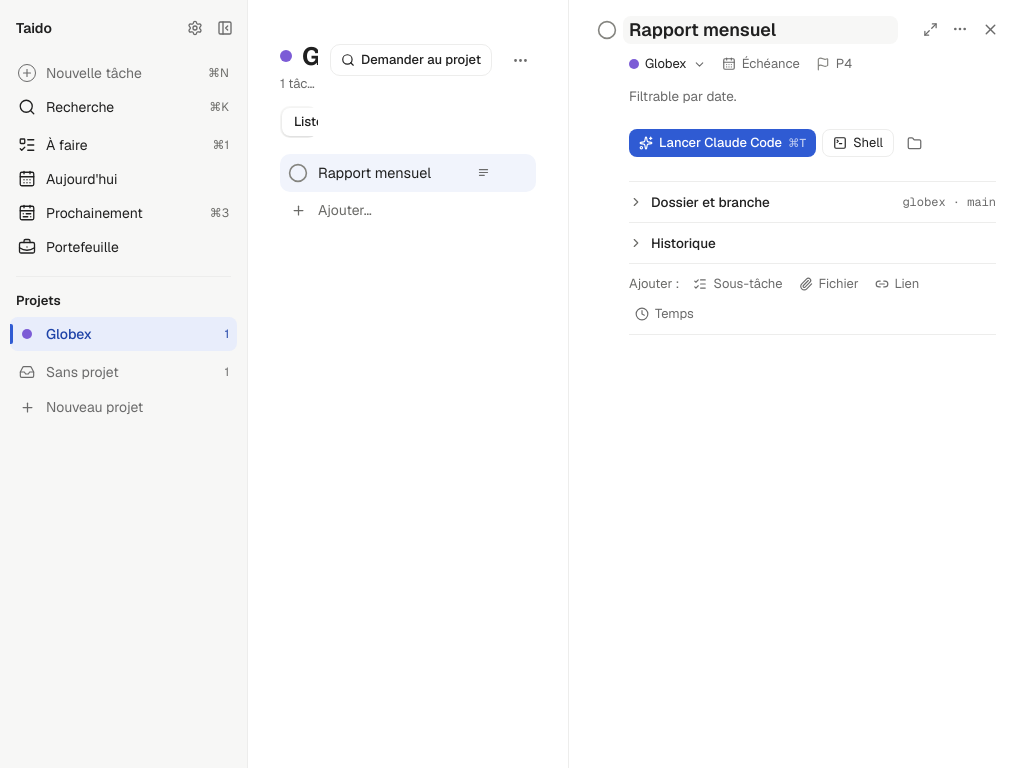
Test: attachments and relations › finds a subtask by its name and shows it under its task
Click the button "Lien" at x=897, y=284, box [869,270,925,298]
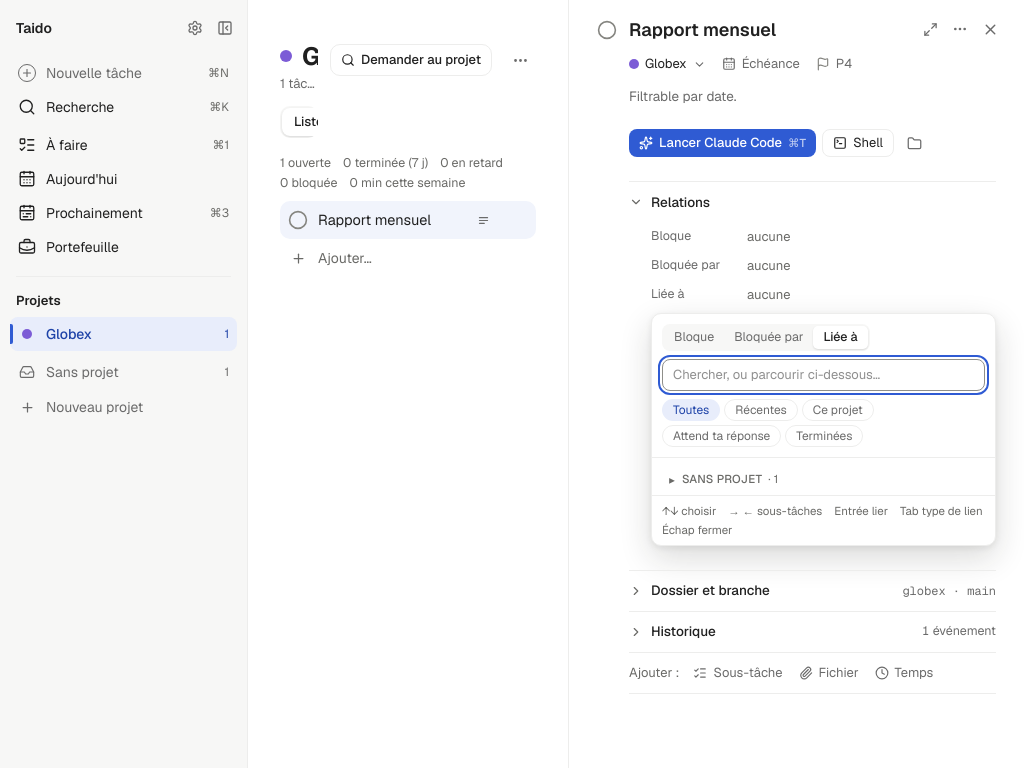
Type "script" into the dropdown at x=824, y=375, box [662,359,985,391]
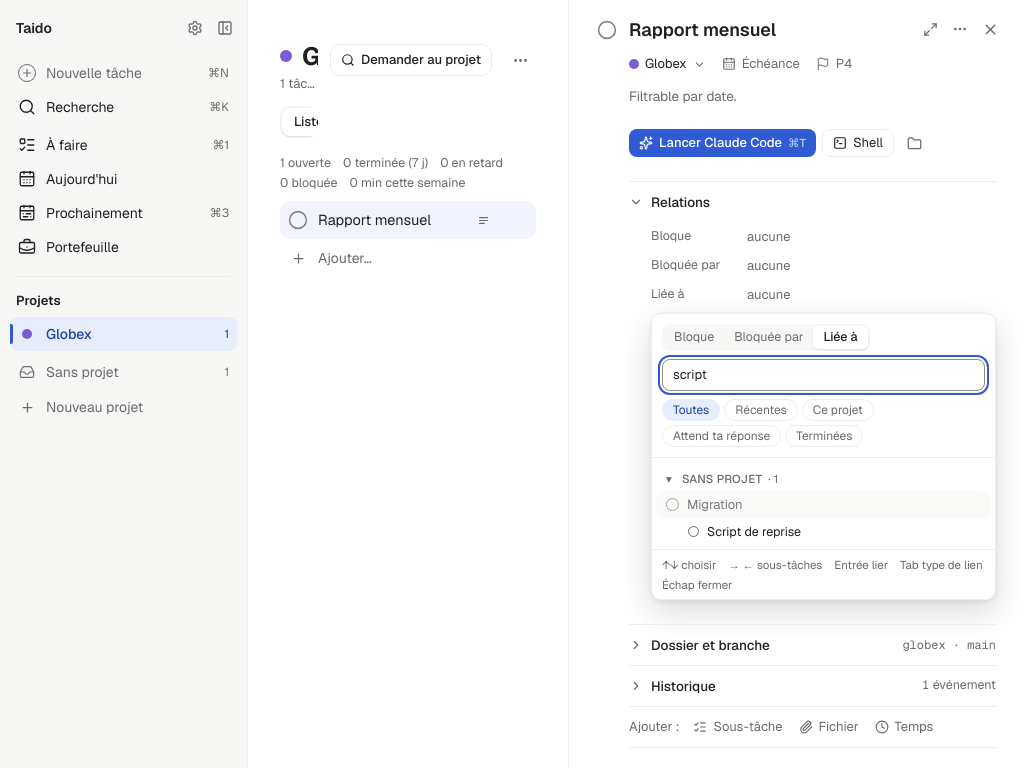
Result: the options read "Migration", "Script de reprise", in this order at [656,491,991,518]; [688,522,801,540]
Press Escape
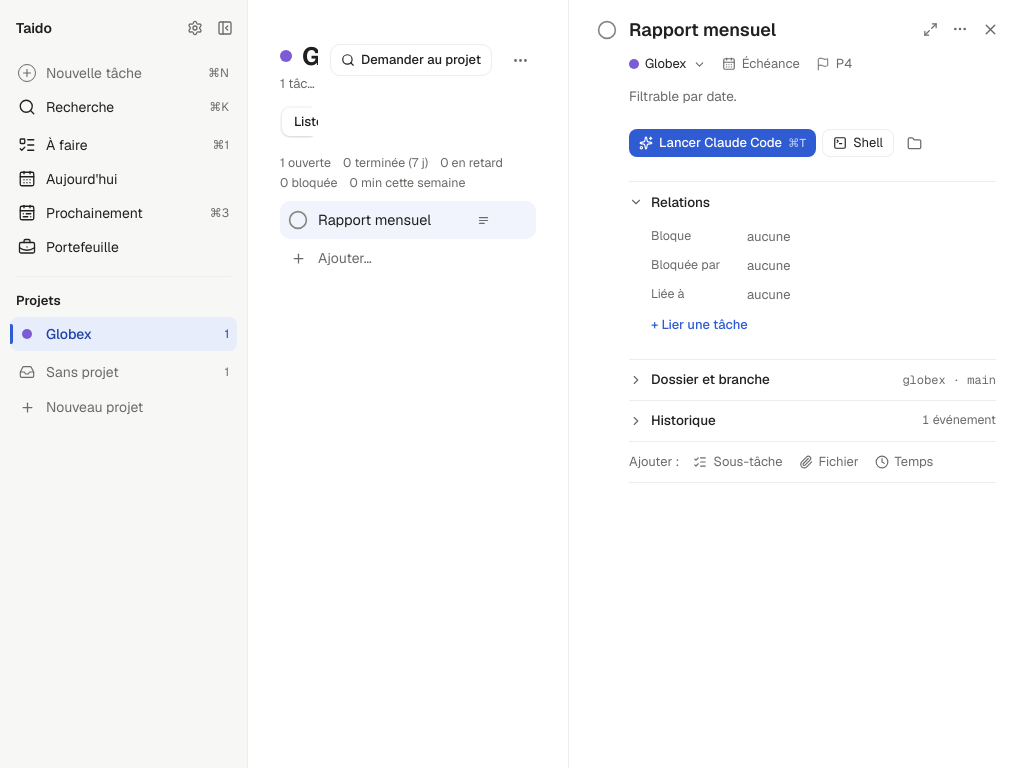
Result: the button "+ Lier une tâche" is shown at [651,311,748,338]
